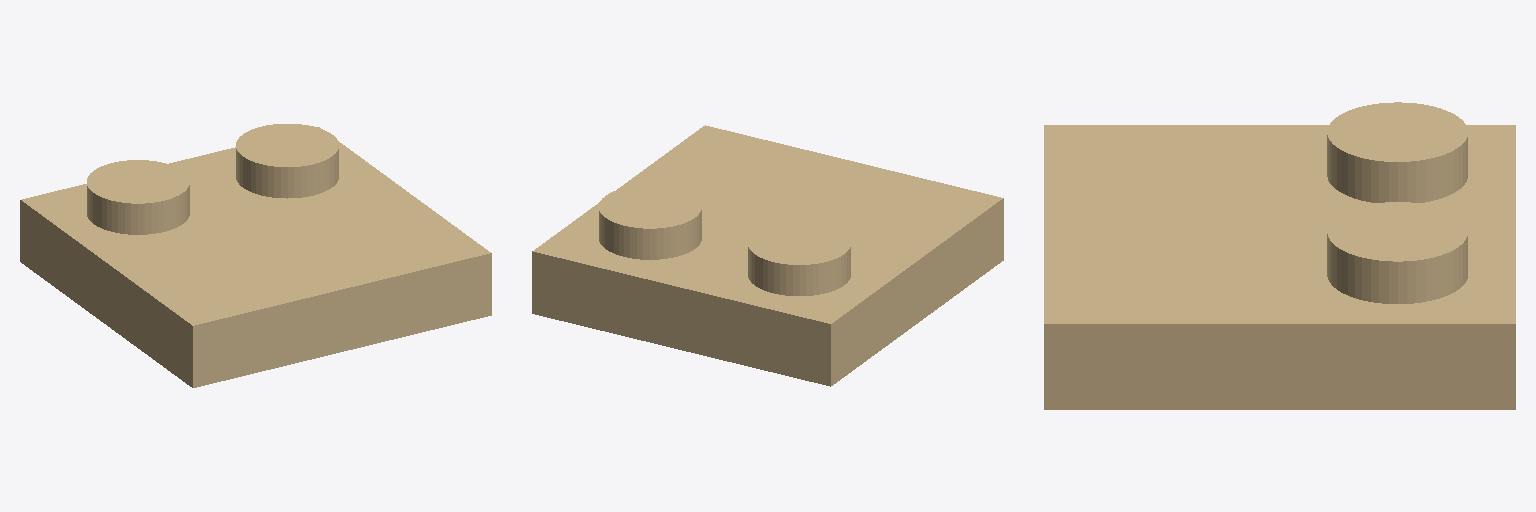
URDF robot description (33909__tan):
<?xml version="1.0"?>
<robot name="33909__tan">
  <link name="33909__tan">
    <inertial>
      <origin xyz="0.000000 0.000355 -0.001093" rpy="0 0 0"/>
      <mass value="0.001114"/>
      <inertia ixx="2.390319309e-08" ixy="1.413638742e-25" ixz="1.166251962e-25" iyy="2.464713402e-08" iyz="-7.973301921e-10" izz="4.504974091e-08"/>
    </inertial>
    <visual>
      <geometry>
        <mesh filename="../meshes/visual/33909.obj" scale="1 1 1"/>
      </geometry>
      <material name="33909__tan_color">
        <color rgba="0.860 0.770 0.610 1.000"/>
      </material>
    </visual>
    <collision>
      <geometry>
        <mesh filename="../meshes/collision/33909_hull.obj" scale="1 1 1"/>
      </geometry>
    </collision>
  </link>
</robot>

--- Facts derived from the render (not from the file) ---
Views: 3 orthographic renders of the robot side by side, from view 1: azimuth 30°, elevation 25°; view 2: azimuth 150°, elevation 25°; view 3: azimuth 270°, elevation 25°.
Model 33909__tan with 1 links and 0 joints (none), rooted at 33909__tan, posed all joints at 0.
Links seen in each view (by area): view 1: 33909__tan; view 2: 33909__tan; view 3: 33909__tan.
Link boxes in pixels (x1=…): 33909__tan: x1=20, y1=124, x2=491, y2=387; 33909__tan: x1=532, y1=125, x2=1003, y2=386; 33909__tan: x1=1044, y1=102, x2=1515, y2=409.
Size in the robot's own frame: 0.016 by 0.016 by 0.0048 metres.
1 mesh visuals loaded from 1 distinct referenced files (1 OBJ).
